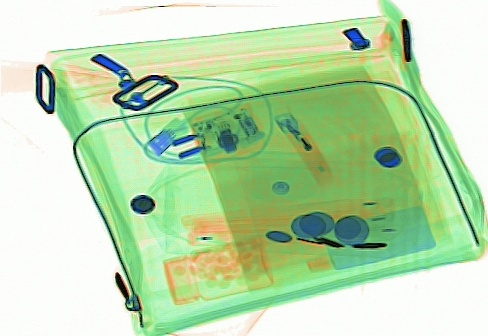lighter: (271, 110, 335, 187)
